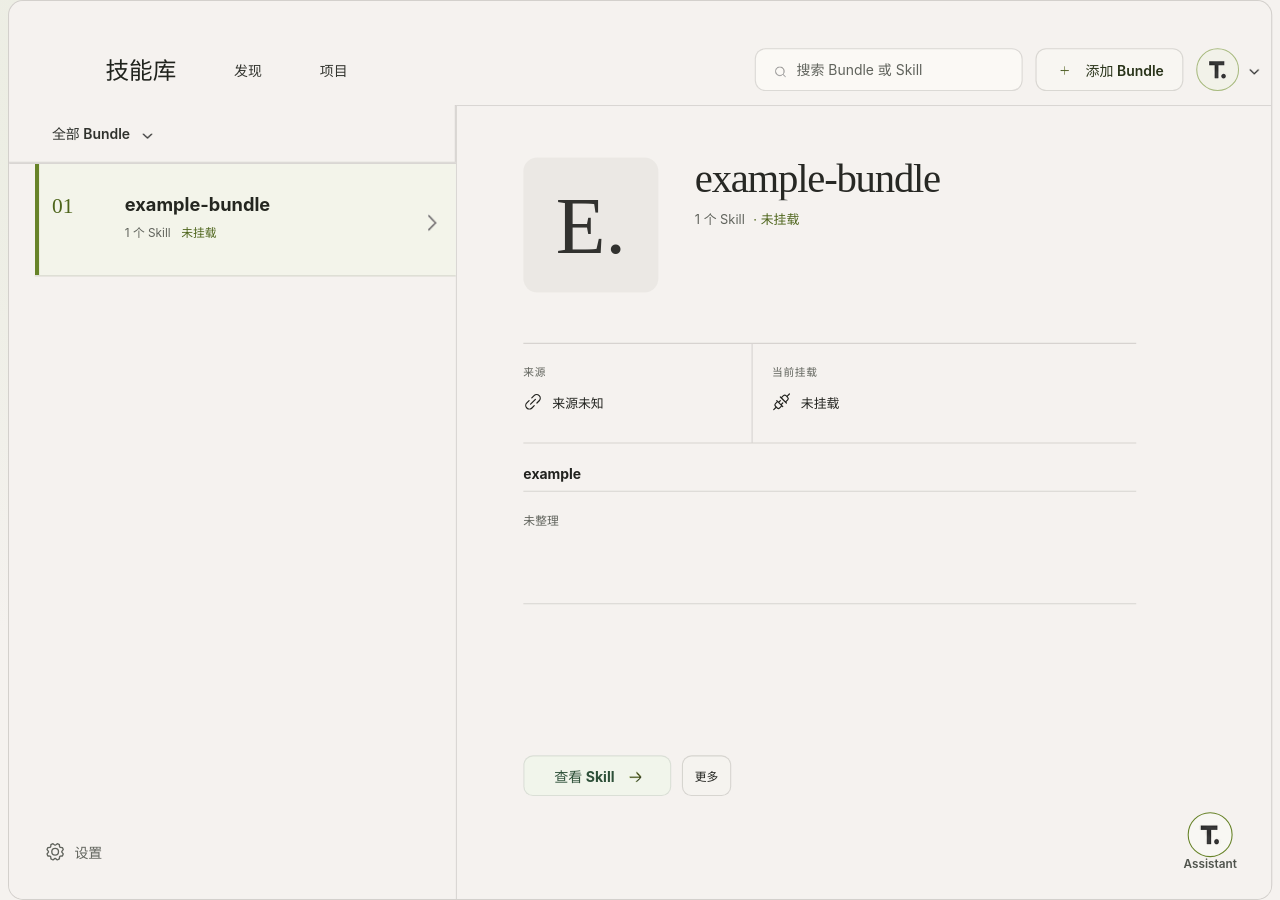
Scenario: 本机清单 › Agent 入口只保留品牌标识，并以可中断的隐藏抽屉保留无障碍边界
The image size is (1280, 900).
Expected: the text "Assistant" is shown, [1183, 858, 1237, 870]
Click the button with aria-label "打开 SkillYard Assistant": (1210, 843) [1178, 810, 1242, 876]
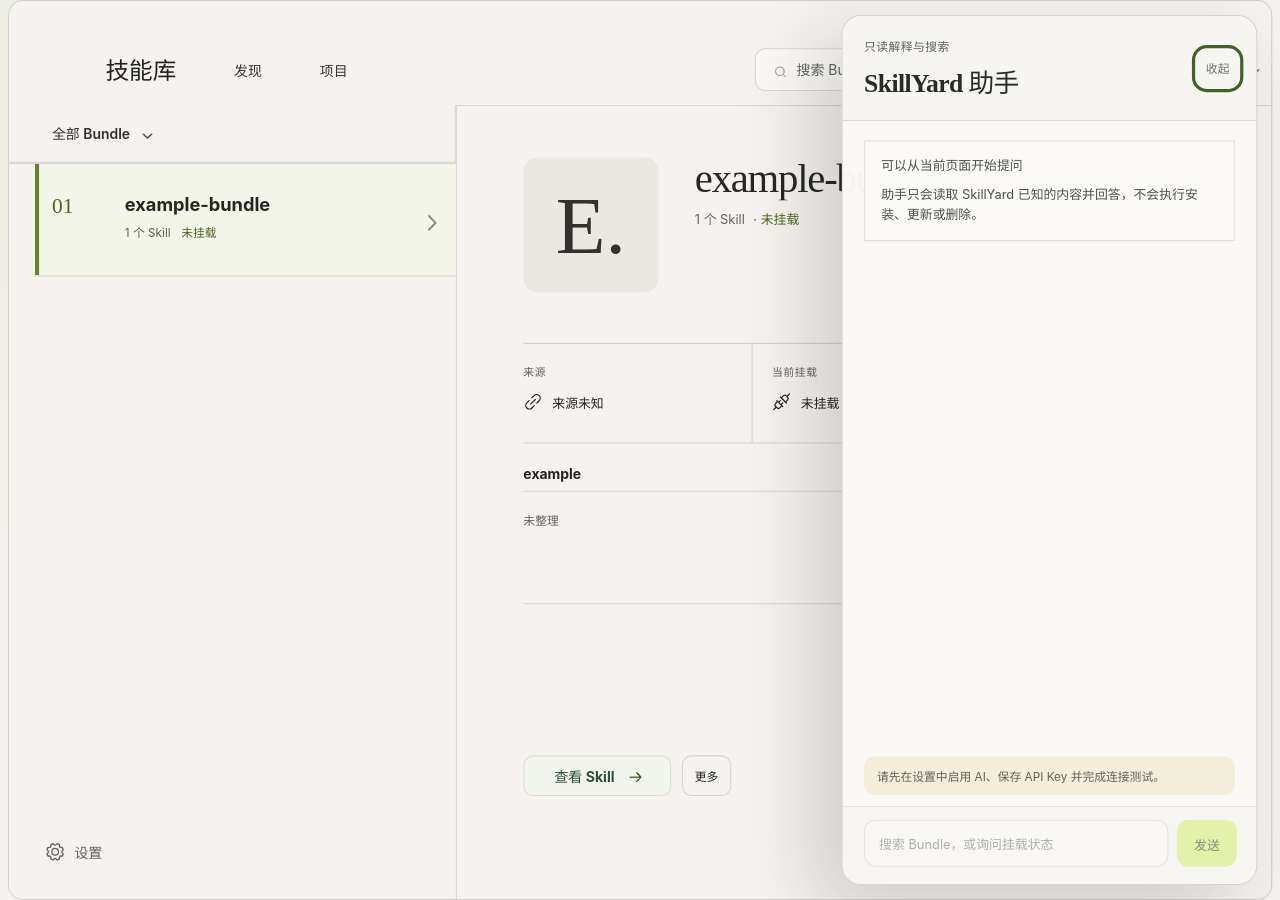
Press Escape
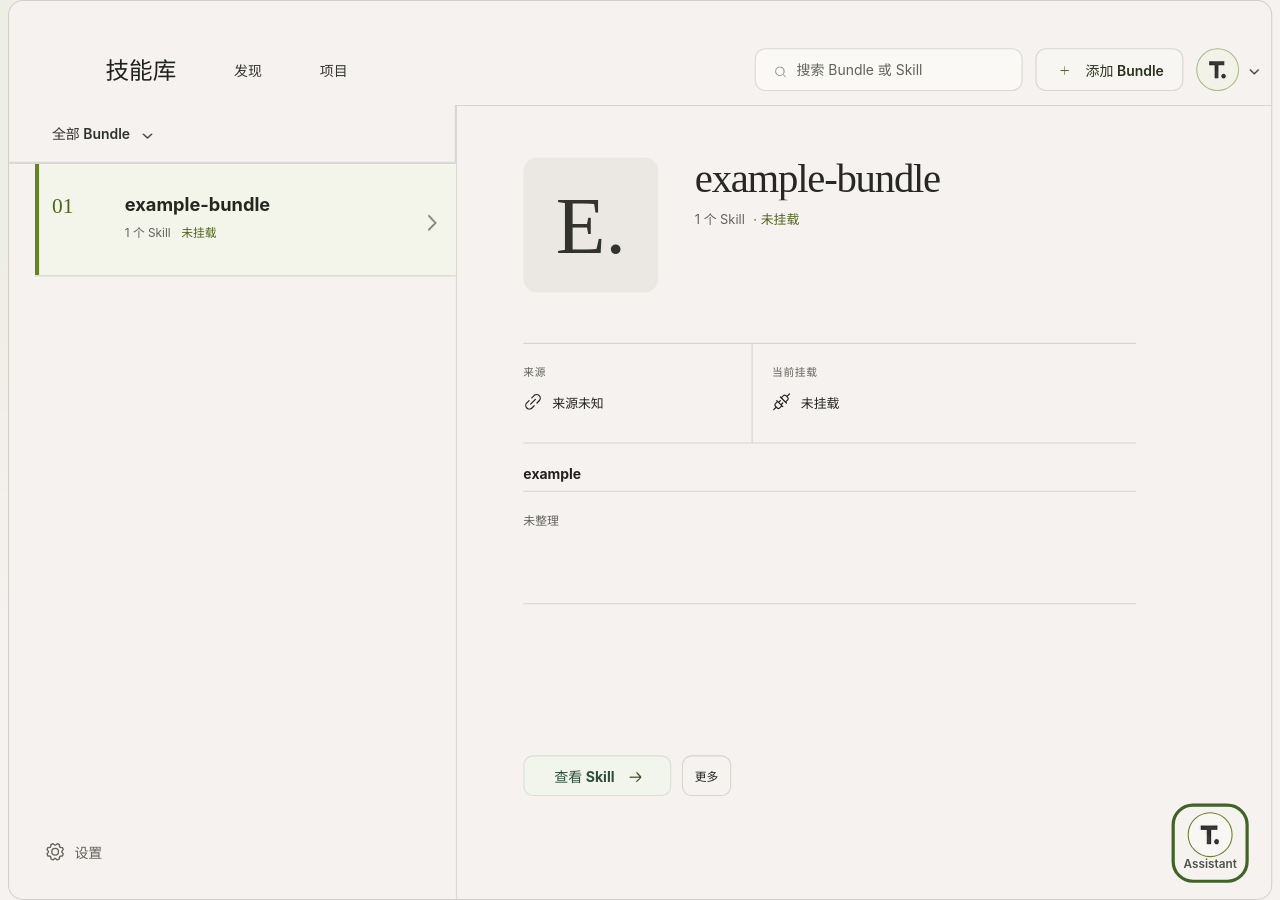
Expected: the heading "SkillYard 助手" is gone
